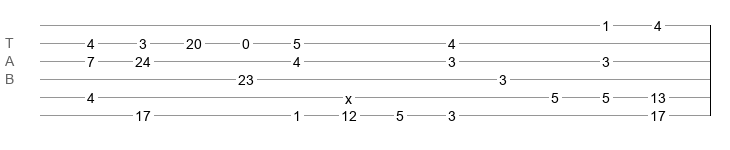0: (242, 36, 250, 46)
1: (293, 108, 301, 118), (602, 18, 610, 28)
12: (341, 108, 357, 118)
13: (650, 90, 666, 100)
17: (135, 108, 151, 118), (650, 108, 666, 118)
20: (186, 36, 202, 46)
23: (238, 72, 254, 82)
24: (135, 54, 151, 64)
3: (139, 36, 147, 46), (448, 108, 456, 118), (448, 54, 456, 64), (499, 72, 507, 82), (602, 54, 610, 64)
4: (87, 36, 95, 46), (87, 90, 95, 100), (293, 54, 301, 64), (448, 36, 456, 46), (654, 18, 662, 28)
5: (293, 36, 301, 46), (396, 108, 404, 118), (551, 90, 559, 100), (602, 90, 610, 100)
7: (87, 54, 95, 64)
x: (345, 91, 352, 99)
